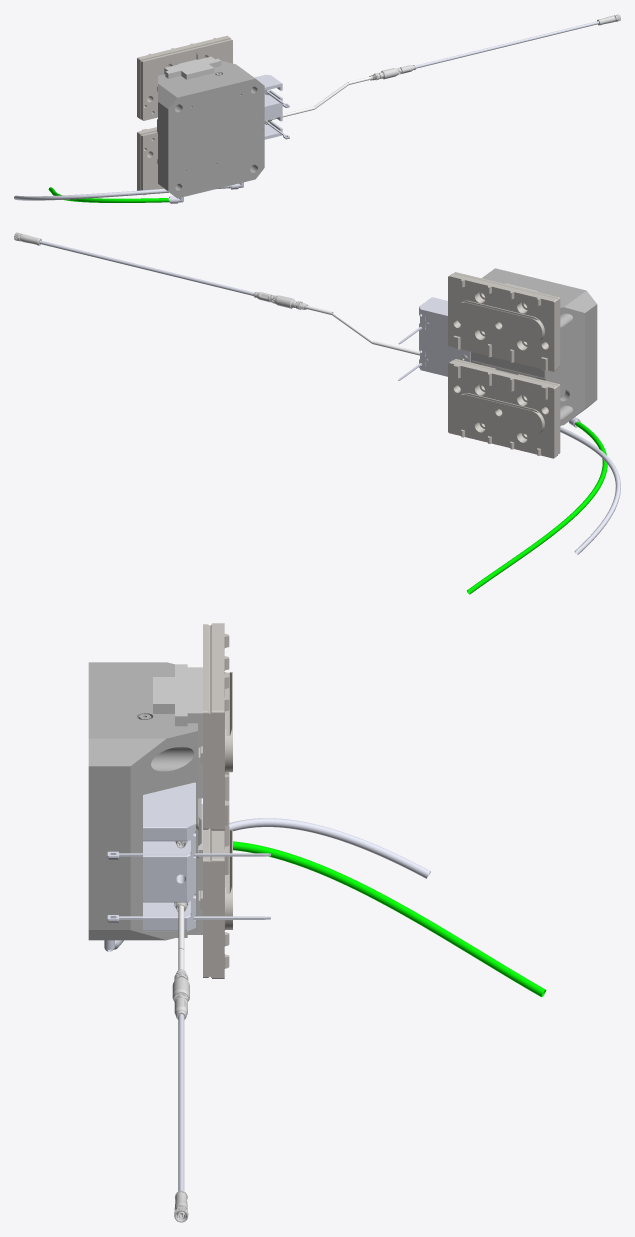
Rendered from LG-VISEKIT-00.glb.
The picture shows the model from 3 angles, top to bottom: view 1: azimuth 30°, elevation 25°; view 2: azimuth 150°, elevation 25°; view 3: azimuth 270°, elevation 25°; orthographic projection. The views are drawn at different scales.
Parts seen in each view (by area): view 1: SCHUNK_1349666_KSP_LH_plus_160_IN2__0_6, 5003723(As Machined) JAWS (×2), AWR-00011, SCHUNK_1349666_KSP_LH_plus_160_IN2__0_3, 1A-169-01, 22 AWG (BLACK) WIRE, 1A-169-06, Y_HARNESS M8 MALE TO 2 FEMALES_IM; view 2: 5003723(As Machined) JAWS (×2), SCHUNK_1349666_KSP_LH_plus_160_IN2__0_6, AWR-00011, 1A-169-06, 1A-169-01, 22 AWG (BLACK) WIRE, Y_HARNESS M8 MALE TO 2 FEMALES_IM; view 3: SCHUNK_1349666_KSP_LH_plus_160_IN2__0_6, 5003723(As Machined) JAWS (×2), AWR-00011, 1A-169-06, SCHUNK_1349666_KSP_LH_plus_160_IN2__0_3, 1A-169-01, 22 AWG (BLACK) WIRE.
Boxes of the visible parts, box(x1,y1,x2,y2) form: SCHUNK_1349666_KSP_LH_plus_160_IN2__0_6: box(157, 61, 264, 198); 5003723(As Machined) JAWS (×2): box(137, 35, 232, 195); AWR-00011: box(254, 74, 282, 139); SCHUNK_1349666_KSP_LH_plus_160_IN2__0_3: box(164, 56, 221, 79); 1A-169-01: box(14, 186, 229, 200); 22 AWG (BLACK) WIRE: box(415, 21, 598, 68); 1A-169-06: box(48, 187, 168, 202); Y_HARNESS M8 MALE TO 2 FEMALES_IM: box(272, 76, 371, 119); 5003723(As Machined) JAWS (×2): box(448, 272, 560, 458); SCHUNK_1349666_KSP_LH_plus_160_IN2__0_6: box(470, 268, 597, 425); AWR-00011: box(419, 297, 470, 376); 1A-169-06: box(467, 421, 607, 594); 1A-169-01: box(560, 426, 620, 554); 22 AWG (BLACK) WIRE: box(39, 240, 253, 295); Y_HARNESS M8 MALE TO 2 FEMALES_IM: box(306, 305, 419, 355); SCHUNK_1349666_KSP_LH_plus_160_IN2__0_6: box(88, 662, 201, 940); 5003723(As Machined) JAWS (×2): box(200, 623, 232, 978); AWR-00011: box(143, 782, 195, 931); 1A-169-06: box(233, 841, 546, 997); SCHUNK_1349666_KSP_LH_plus_160_IN2__0_3: box(153, 664, 202, 798); 1A-169-01: box(229, 818, 430, 878); 22 AWG (BLACK) WIRE: box(178, 1014, 184, 1191).
Size of the model in its own units: 0.9118 by 0.3023 by 0.329.
